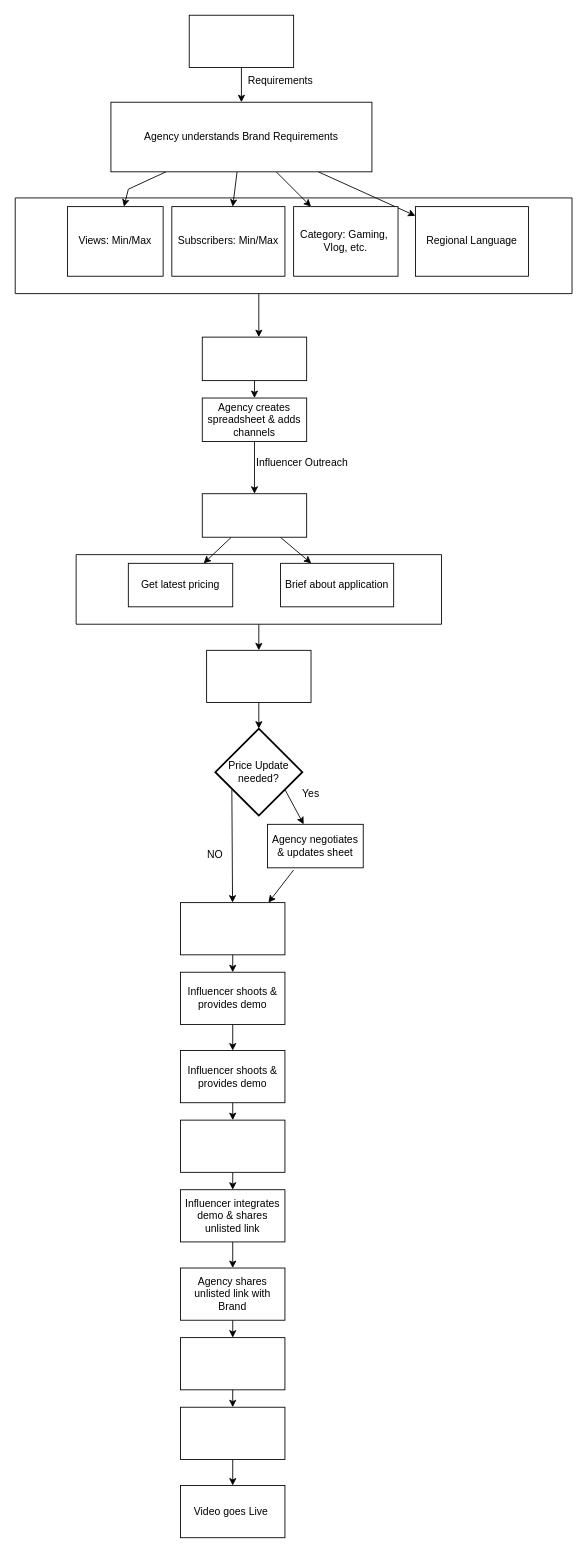
Some shapes in this 588 by 1553 pixel diagram are drawn without their labels. Each missing label, with the centre of its shape:
Agency filters channels: (254,358)
Agency pays Creator: (232,1432)
Agency provides assets: Script, Logos, etc.: (232,928)
Agency reaches out to Influencers: (254,515)
Brand Approved: (232,1145)
Brand Initial Contact: (241,40)
Final Approval: (232,1363)
Share sheet with Brand and Brand shortlists channels: (258,676)
